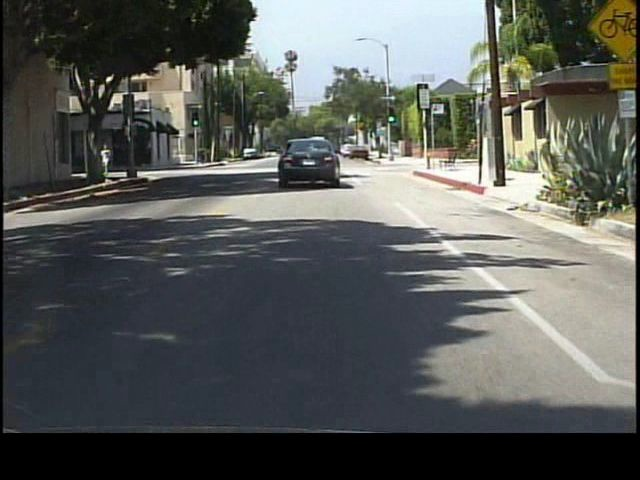person: (103, 140, 114, 178)
